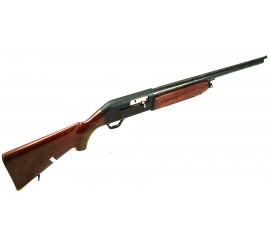weapon: (1, 53, 267, 197)
